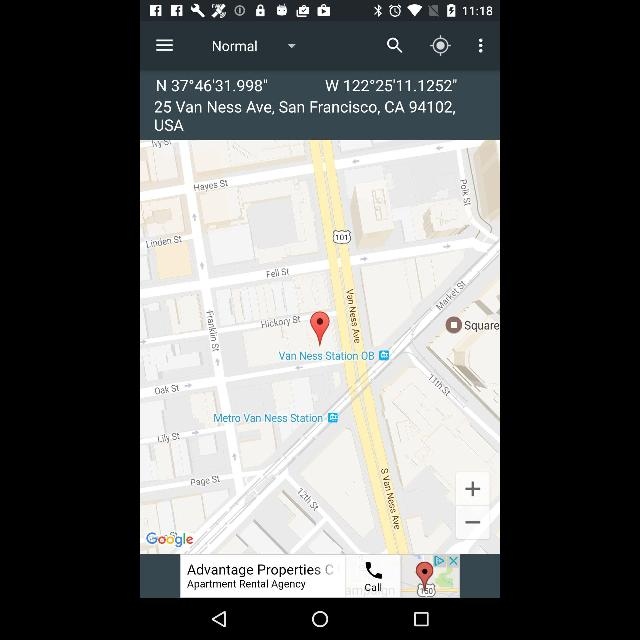icon: (458, 472, 490, 506), (457, 506, 489, 538), (430, 35, 452, 57), (312, 610, 331, 628), (386, 37, 404, 54), (212, 610, 228, 628), (413, 612, 429, 628), (155, 39, 173, 52), (478, 38, 484, 54), (286, 44, 296, 48)
iframe: (178, 555, 460, 597)
map: (140, 140, 500, 552)
panel: (142, 72, 498, 140), (142, 24, 500, 70), (141, 556, 499, 598), (140, 599, 500, 639)
text: (156, 100, 457, 116), (324, 78, 456, 92), (155, 78, 267, 92), (212, 40, 258, 52), (153, 119, 184, 133)
uppertaskbar: (141, 1, 499, 21)
